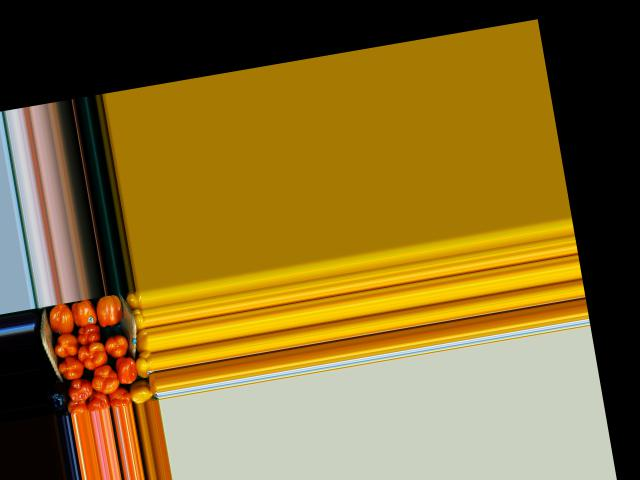bell_pepper: (133, 347, 152, 380)
